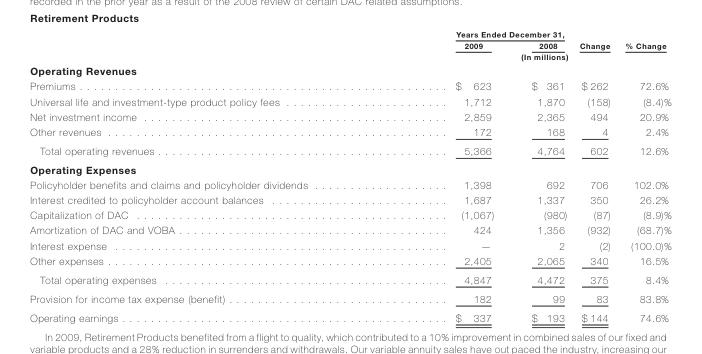table: (29, 29, 670, 322)
table column: (29, 29, 380, 322), (380, 29, 512, 322), (512, 29, 572, 322), (617, 29, 670, 322), (572, 29, 617, 322)
table column header: (29, 29, 670, 62)
table projected row header: (29, 159, 670, 176), (29, 62, 670, 78)
table row: (29, 140, 670, 159), (29, 269, 670, 288), (29, 288, 670, 307), (29, 123, 670, 140), (29, 159, 670, 176), (29, 252, 670, 269), (29, 62, 670, 78), (29, 176, 670, 192), (29, 78, 670, 93), (29, 93, 670, 108), (29, 108, 670, 123), (29, 192, 670, 207), (29, 207, 670, 222), (29, 222, 670, 237), (29, 237, 670, 252), (29, 307, 670, 322), (29, 50, 670, 62), (29, 39, 670, 50), (29, 29, 670, 39)
table spanning cell: (380, 50, 617, 62), (380, 29, 572, 39), (617, 29, 670, 62), (572, 29, 617, 50)
